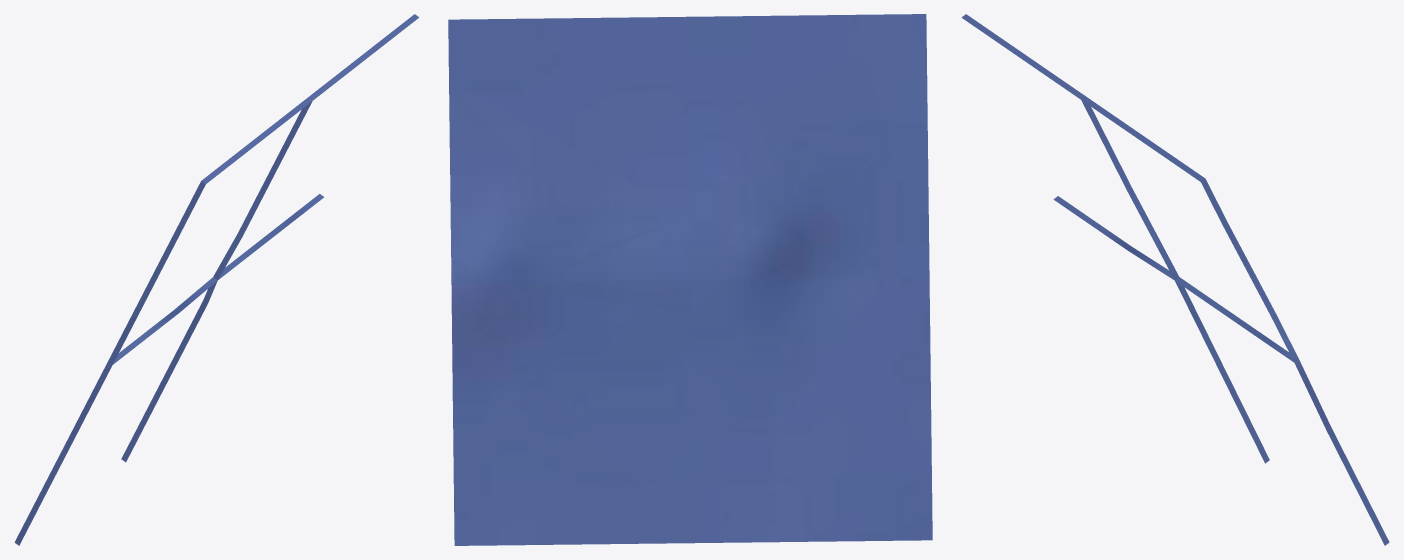
3 views of the same model, side by side, from view 1: azimuth 30°, elevation 25°; view 2: azimuth 150°, elevation 25°; view 3: azimuth 270°, elevation 25° (orthographic). The views are drawn at different scales.
Bounding box in the file's own units: 9810 × 8869 × 8313.
Materials: 1 (1 with a texture image).
